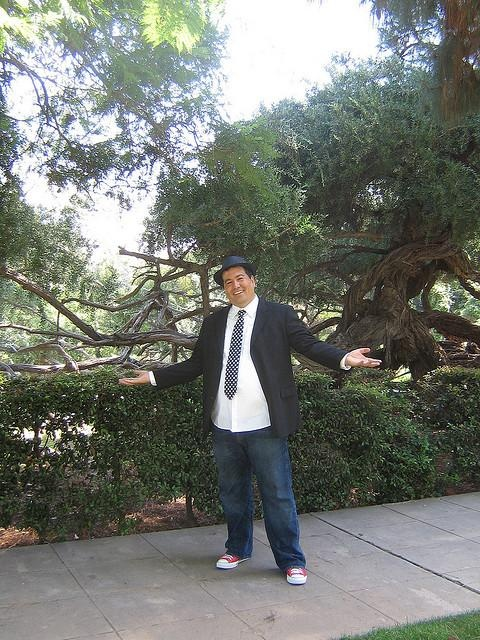person: (113, 254, 382, 579)
